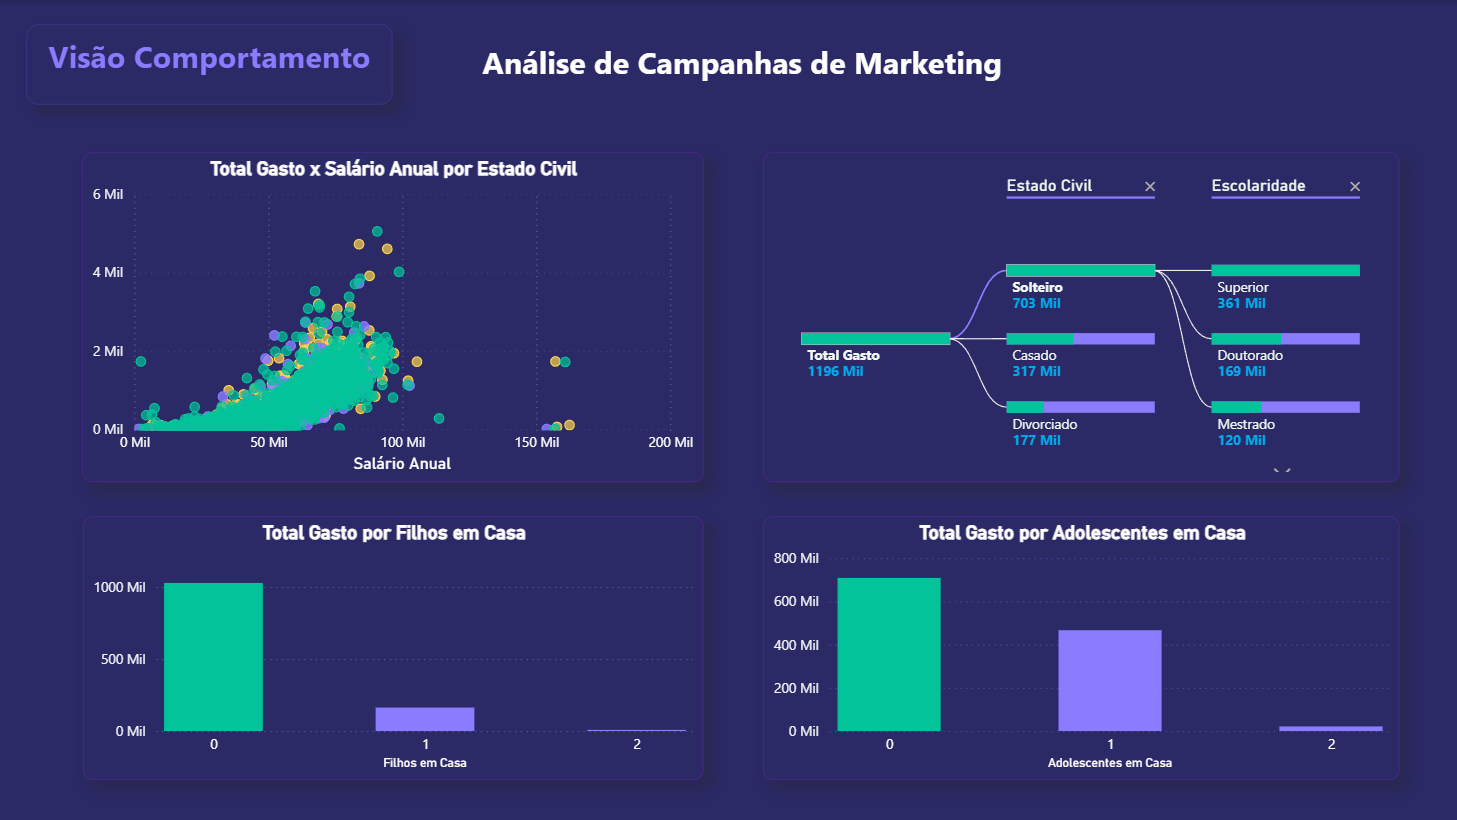

The page's visual inventory and layout, read from the dashboard file:
{"tool":"powerbi","page":{"name":"Visão Comportamento","canvas":[1280,720],"ordinal":2},"visuals":[{"type":"scatterChart","title":"Total Gasto x Salário Anual por Estado Civil","fields":{"X":["dados_mkt.Salario Anual"],"Y":["Sum(dados_mkt.Total Gasto)"],"Series":["dados_mkt.Estado Civil"]},"box":[71.7,133.1,545.5,290.4],"z":0},{"type":"textbox","box":[379.4,31.1,544.9,73.1],"z":1000},{"type":"decompositionTreeVisual","fields":{"Analyze":["Sum(dados_mkt.Total Gasto)"],"ExplainBy":["dados_mkt.Estado Civil","dados_mkt.Escolaridade"]},"box":[670.3,133.1,559.5,290.4],"z":2000},{"type":"columnChart","fields":{"Y":["Sum(dados_mkt.Total Gasto)"],"Category":["dados_mkt.Filhos em Casa"]},"box":[72.6,453.4,544.6,231.8],"z":3000},{"type":"columnChart","fields":{"Y":["Sum(dados_mkt.Total Gasto)"],"Category":["dados_mkt.Adolescentes em Casa"]},"box":[670.3,453.4,559.5,231.8],"z":4000},{"type":"textbox","box":[22.8,21.1,322.2,71.1],"z":5000}]}

Visuals, with their boxes in screenshot pixels (x1, y1, x2, y2), scaled from the page's 1280x720 canvas onto the 1457x820 screenshot:
"Total Gasto x Salário Anual por Estado Civil" scatterChart: (82, 152, 703, 482)
textbox: (432, 35, 1052, 119)
decompositionTreeVisual - Sum(dados_mkt.Total Gasto) x dados_mkt.Estado Civil: (763, 152, 1400, 482)
columnChart - Sum(dados_mkt.Total Gasto) x dados_mkt.Filhos em Casa: (83, 516, 703, 780)
columnChart - Sum(dados_mkt.Total Gasto) x dados_mkt.Adolescentes em Casa: (763, 516, 1400, 780)
textbox: (26, 24, 393, 105)
